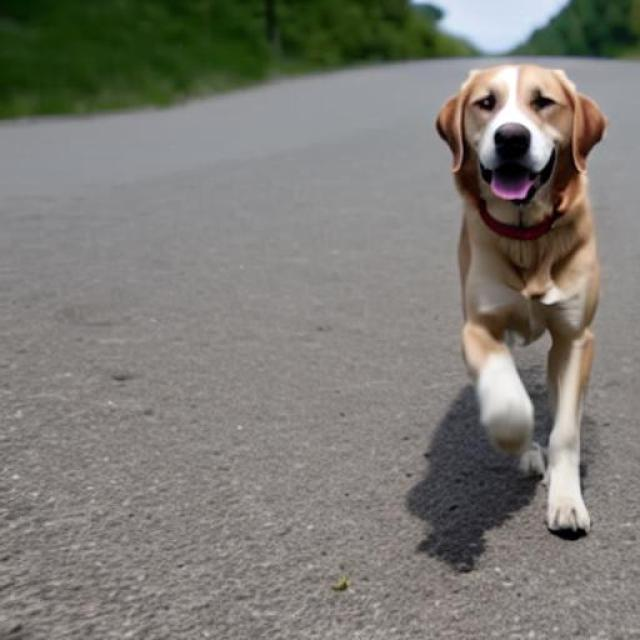Dog: (434, 63, 607, 535)
